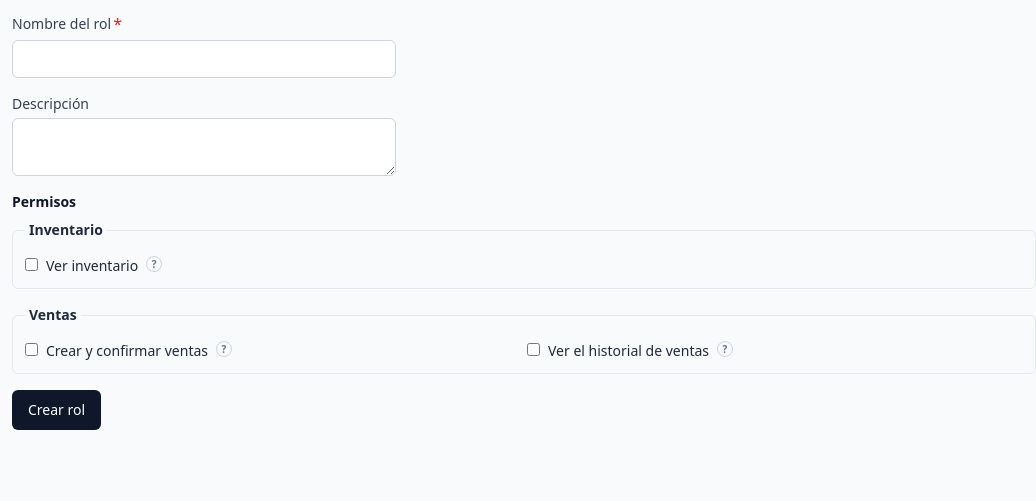
RoleCreateForm › surfaces a 400 unknown-permission-code rejection safely, never a silent success
The width and height of the screenshot is (1036, 501).
In the field labelled "Nombre del rol": (204, 59) [12,40,396,78], type "Raro"
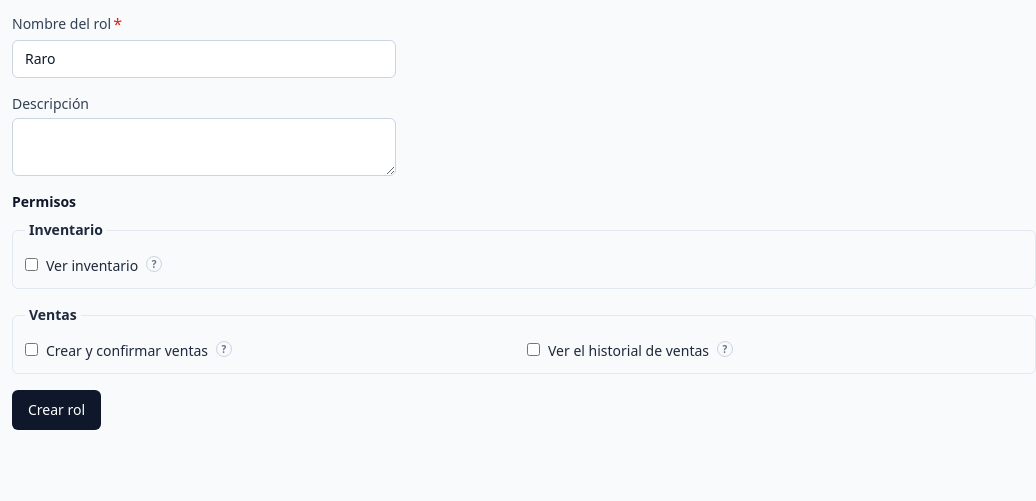
Click the button "Crear rol": (57, 410) [12,390,101,430]
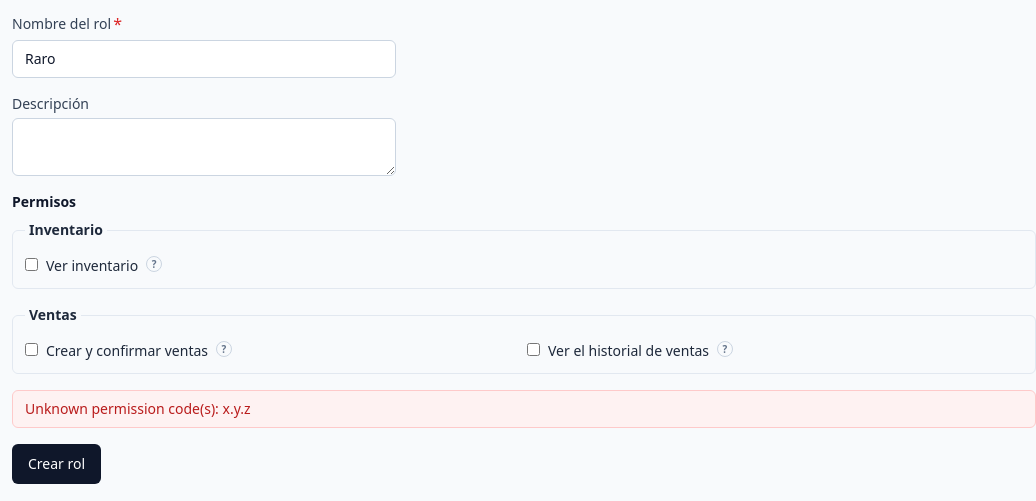
Now the text "Unknown permission code(s): x.y.z" is shown, box [25,399,250,418]
